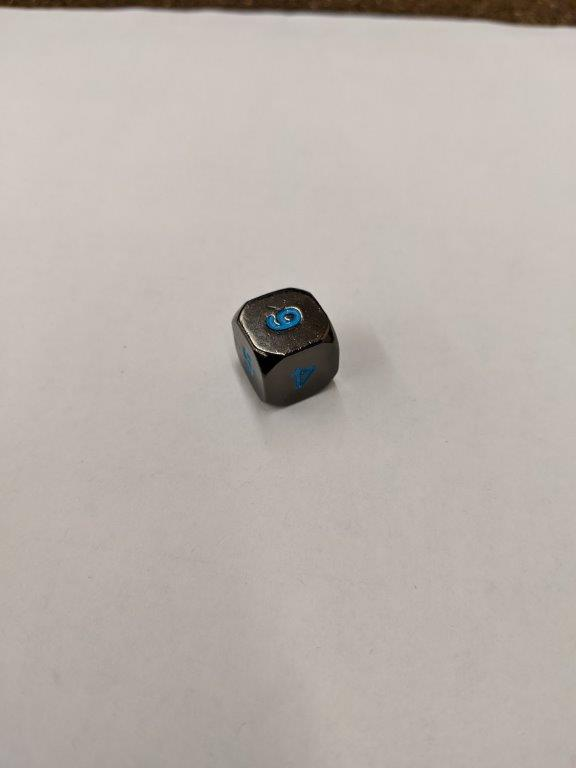d6-6: (234, 286, 338, 411)
